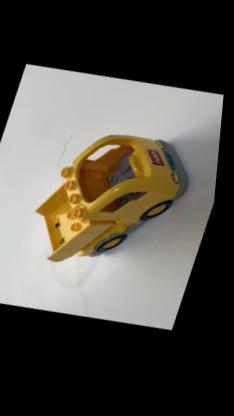yellow dump truck: (19, 113, 207, 293)
